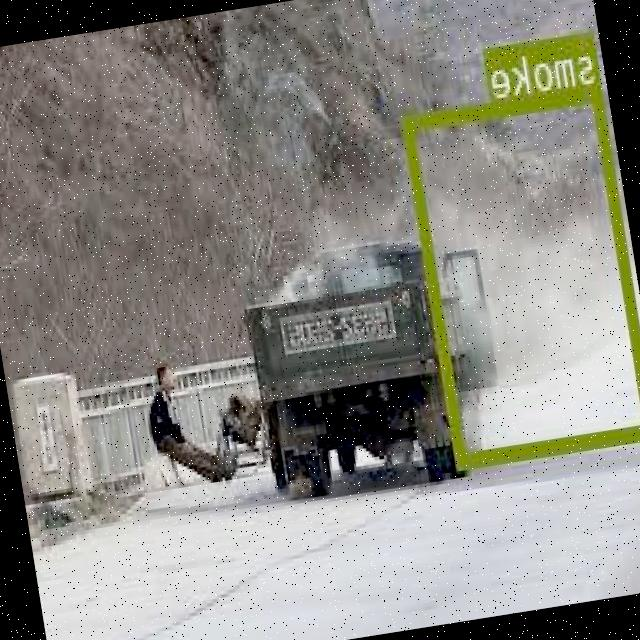smoke: (403, 83, 640, 465)
